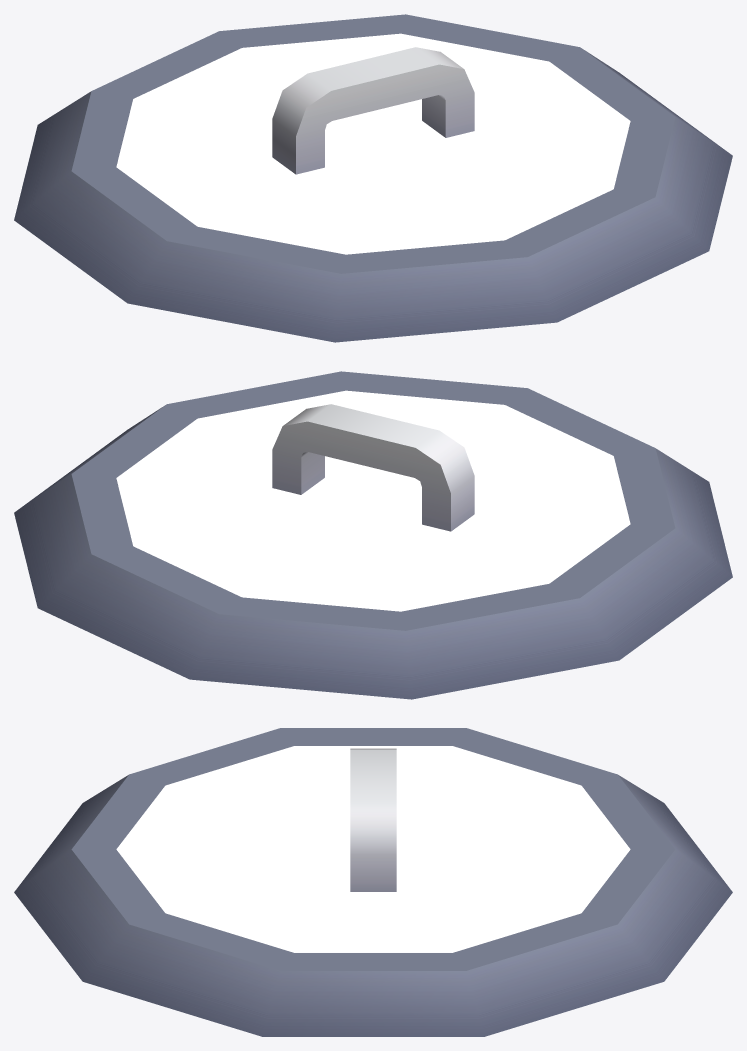
File: kenney-food-frying-pan-lid.glb
The picture shows the model from 3 angles, top to bottom: view 1: azimuth 30°, elevation 25°; view 2: azimuth 150°, elevation 25°; view 3: azimuth 270°, elevation 25°; orthographic projection. The views are drawn at different scales.
Visible parts, largest first — view 1: frying-pan-lid, (%ignore); view 2: frying-pan-lid, (%ignore); view 3: frying-pan-lid, (%ignore).
Part boxes in pixels (left/top/right/bottom): frying-pan-lid: left=14, top=14, right=732, bottom=342; (%ignore): left=116, top=33, right=630, bottom=254; frying-pan-lid: left=14, top=371, right=732, bottom=699; (%ignore): left=116, top=390, right=630, bottom=611; frying-pan-lid: left=14, top=728, right=732, bottom=1036; (%ignore): left=116, top=746, right=630, bottom=952.
Bounding box in the file's own units: 0.5767 × 0.1084 × 0.6064.
2 materials, 1 textured.
